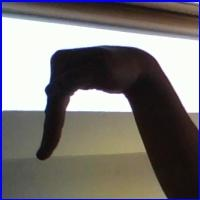A: (47, 45, 170, 174)
